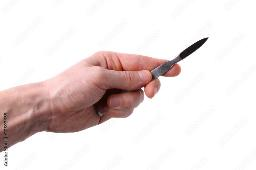scalpel: (96, 36, 210, 118)
